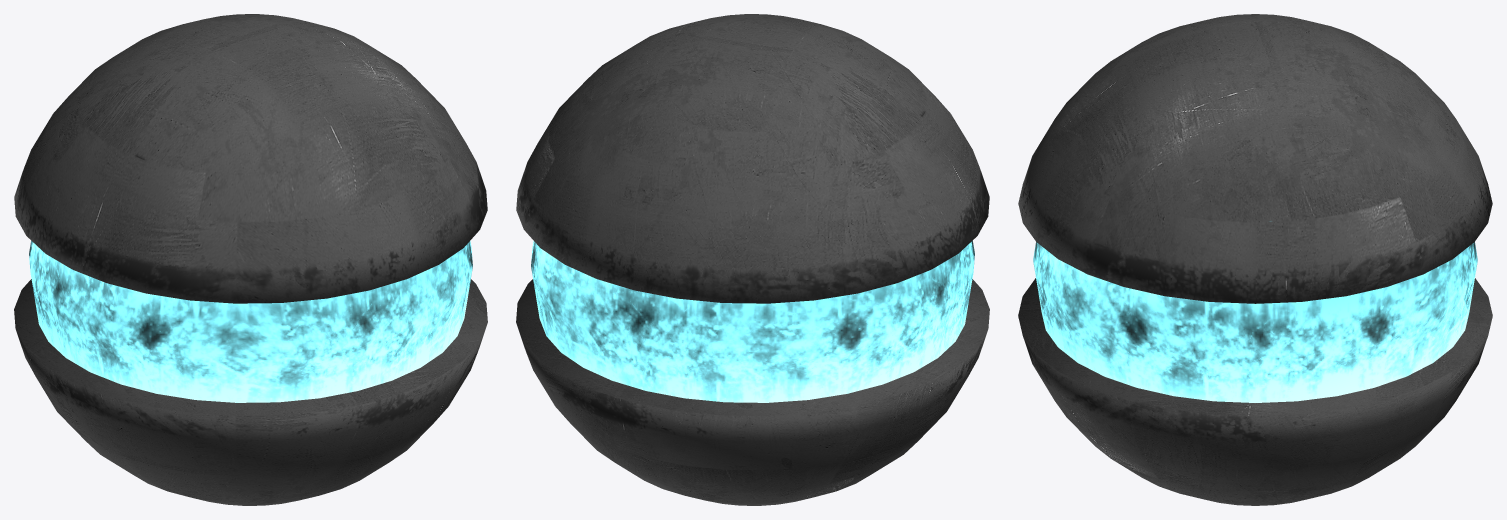
The model's file is ball_03.gltf.
3 views of the same model, side by side, from view 1: azimuth 30°, elevation 25°; view 2: azimuth 150°, elevation 25°; view 3: azimuth 270°, elevation 25° (orthographic).
Visible parts, largest first — view 1: ball03; view 2: ball03; view 3: ball03.
Boxes of the visible parts, x1,y1,x2,y2 form: ball03: (14, 14, 487, 505); ball03: (516, 14, 989, 505); ball03: (1018, 14, 1492, 505).
Bounding box in the file's own units: 0.9641 × 0.9808 × 0.9641.
Materials: 1 (1 with a texture image).
